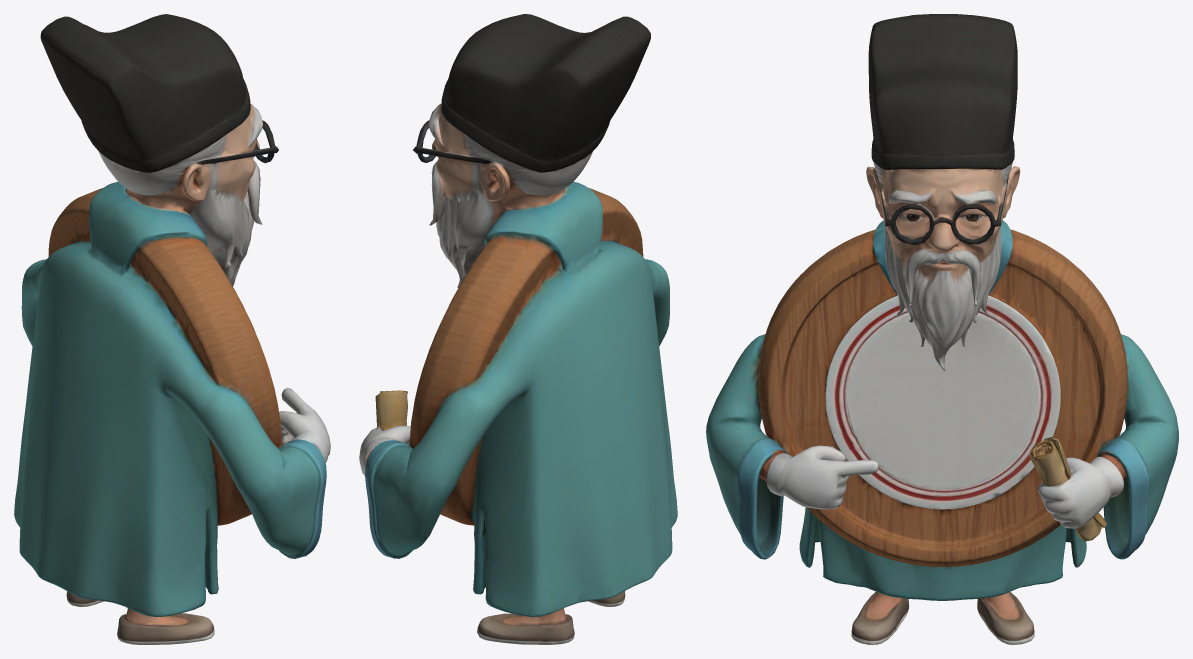
File: p_zhou.glb
3 renders of one model, left to right at view 1: azimuth 30°, elevation 25°; view 2: azimuth 150°, elevation 25°; view 3: azimuth 270°, elevation 25°, orthographic.
Parts seen in each view (by area): view 1: tripo_node_d7b9a9b9-0d1d-49e4-a454-c34d2d39c3ec; view 2: tripo_node_d7b9a9b9-0d1d-49e4-a454-c34d2d39c3ec; view 3: tripo_node_d7b9a9b9-0d1d-49e4-a454-c34d2d39c3ec.
Part boxes in pixels (<box>): tripo_node_d7b9a9b9-0d1d-49e4-a454-c34d2d39c3ec: <box>14,14,330,644</box>; tripo_node_d7b9a9b9-0d1d-49e4-a454-c34d2d39c3ec: <box>359,14,677,644</box>; tripo_node_d7b9a9b9-0d1d-49e4-a454-c34d2d39c3ec: <box>706,14,1178,644</box>.
Bounding box in the file's own units: 0.3942 × 0.9801 × 0.7136.
Materials: 1 (1 with a texture image).
